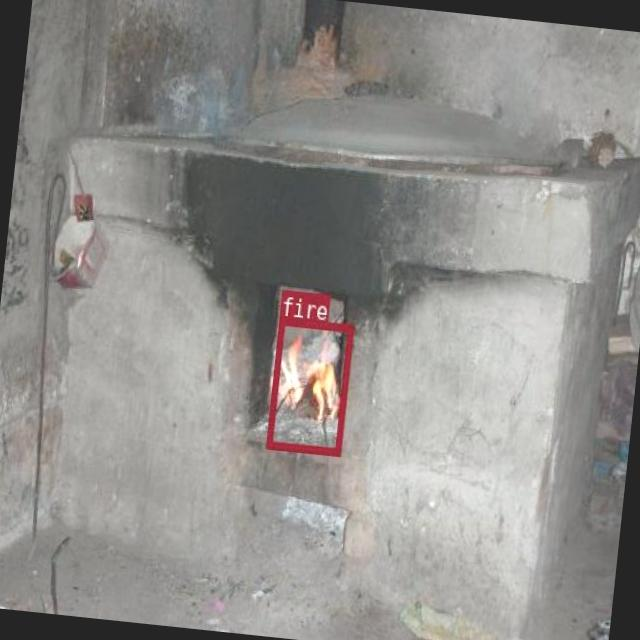fire: (266, 315, 352, 454)
